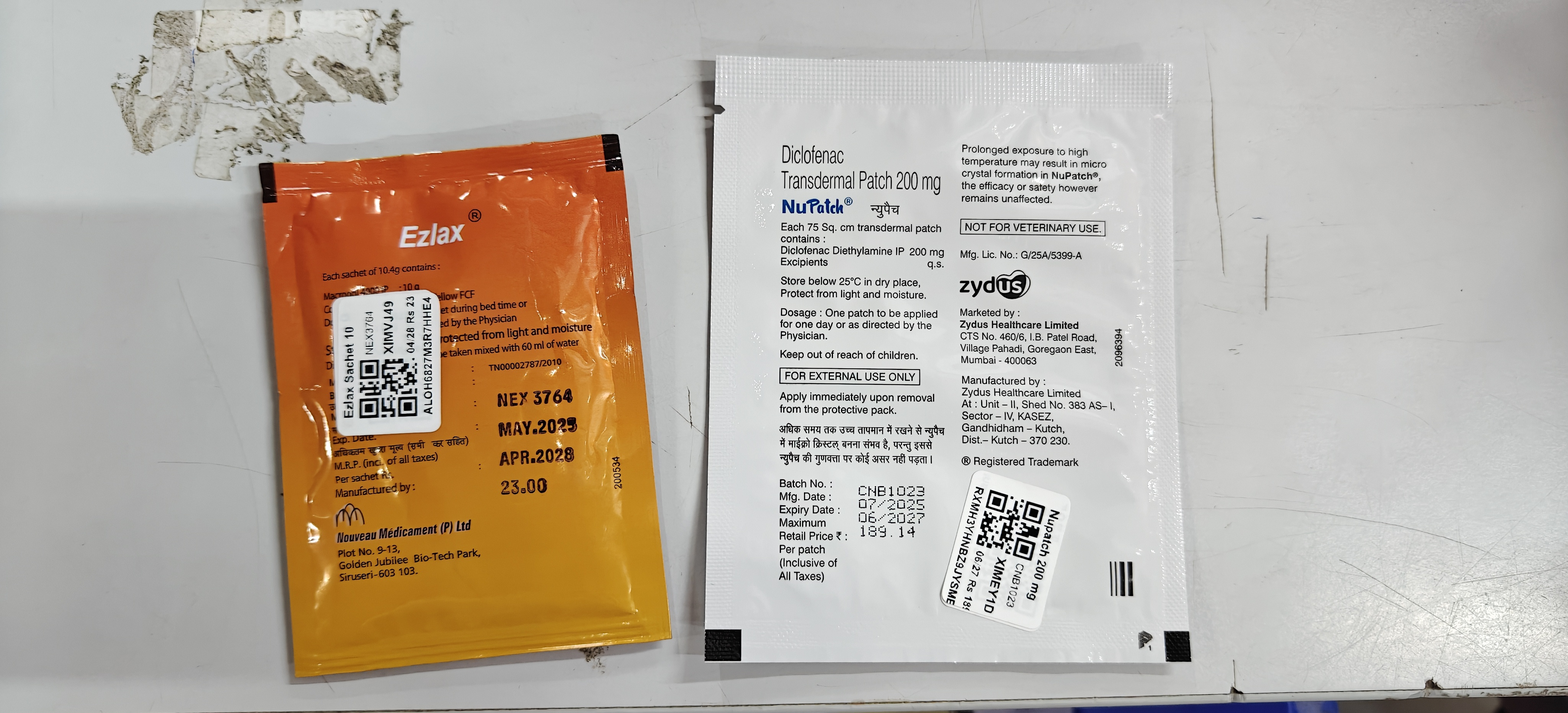qr_code: (975, 489, 1045, 561), (359, 357, 417, 418)
